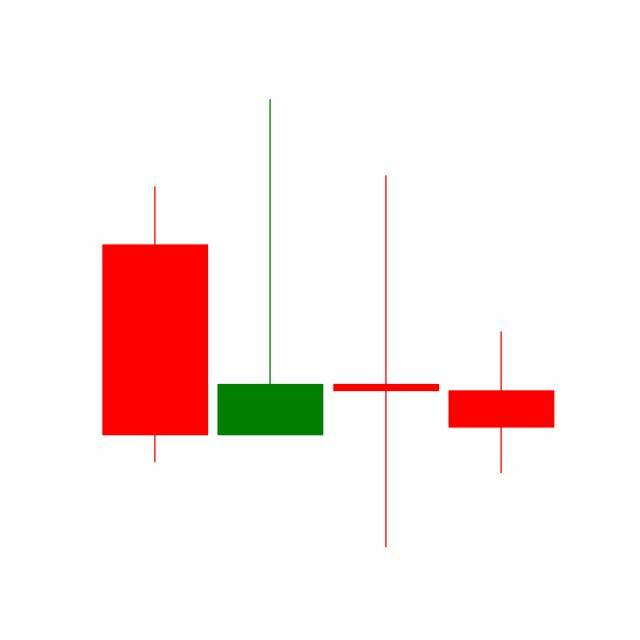Spinning Top: (329, 171, 445, 552)
